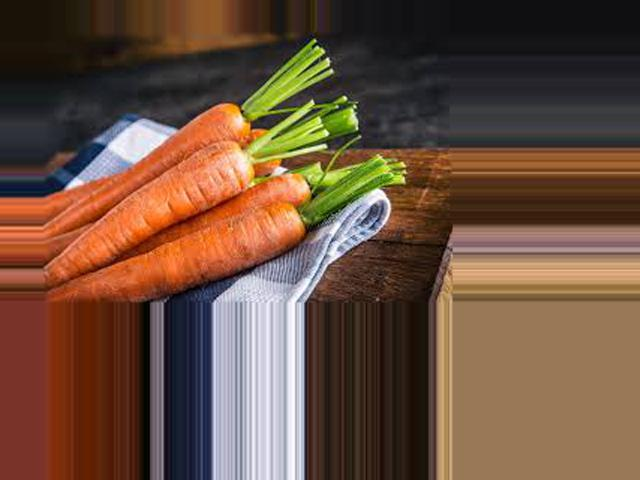carrot: (43, 202, 337, 303)
